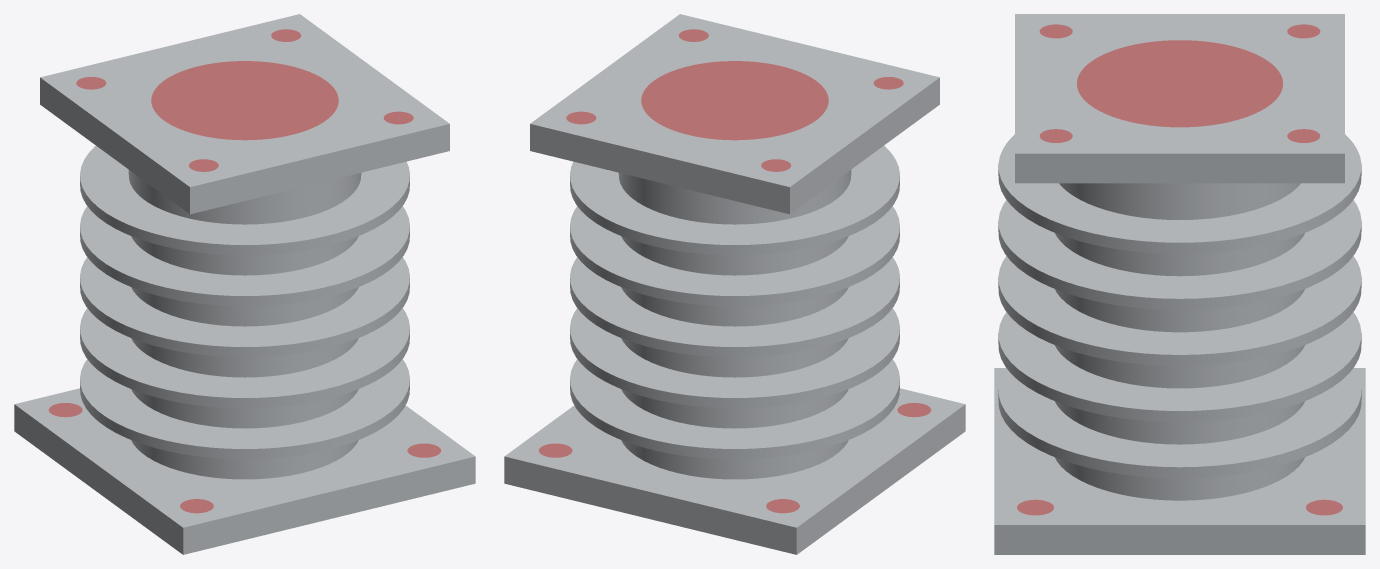
The model's file is step_12.glb.
The picture shows the model from 3 angles, left to right: view 1: azimuth 30°, elevation 25°; view 2: azimuth 150°, elevation 25°; view 3: azimuth 270°, elevation 25°; orthographic projection. The views are drawn at different scales.
Parts seen in each view (by area): view 1: part__cylinder barrel, removed__cylinder barrel; view 2: part__cylinder barrel, removed__cylinder barrel; view 3: part__cylinder barrel, removed__cylinder barrel.
Boxes of the visible parts, x1,y1,x2,y2 form: part__cylinder barrel: (14, 14, 475, 554); removed__cylinder barrel: (48, 29, 441, 513); part__cylinder barrel: (504, 14, 965, 554); removed__cylinder barrel: (538, 29, 931, 513); part__cylinder barrel: (994, 14, 1365, 554); removed__cylinder barrel: (1017, 24, 1342, 515).
Size of the model in its own units: 90 by 105 by 90.
